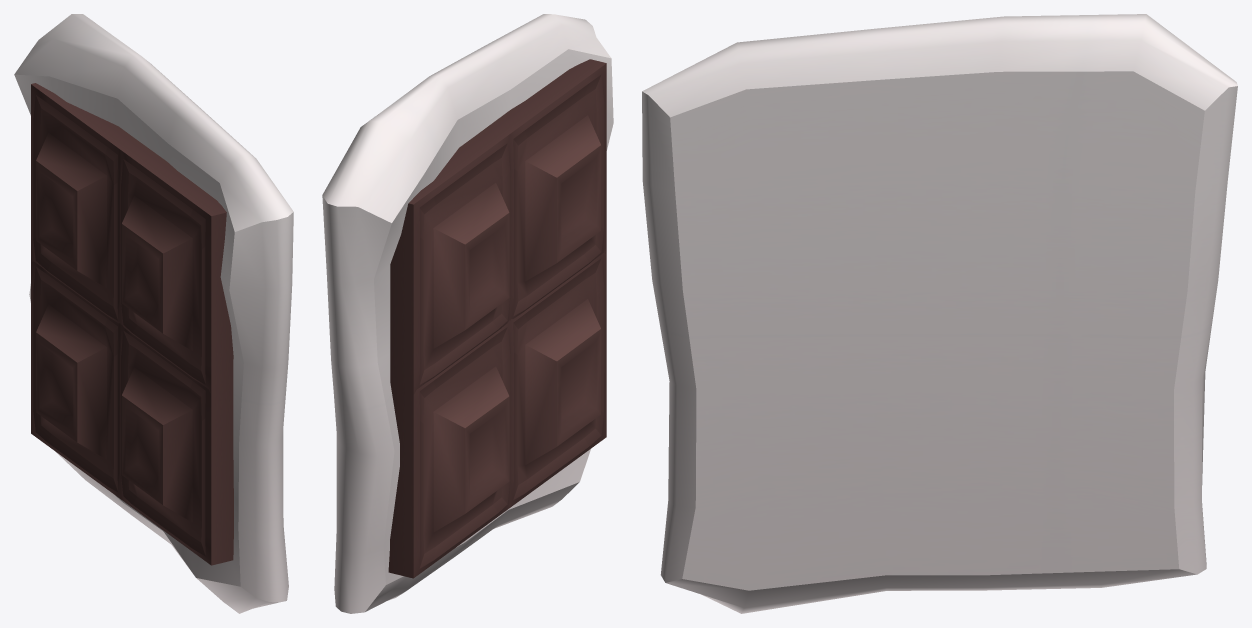
File: Window.fbx
3 views of the same model, side by side, from view 1: azimuth 30°, elevation 25°; view 2: azimuth 150°, elevation 25°; view 3: azimuth 270°, elevation 25° (orthographic). The views are drawn at different scales.
Visible parts, largest first — view 1: pCube24, choco10, choco9; view 2: pCube24, choco10, choco9; view 3: pCube24.
Boxes of the visible parts, x1,y1,x2,y2 form: pCube24: (14, 14, 293, 613); choco10: (31, 83, 233, 393); choco9: (31, 261, 233, 565); pCube24: (322, 14, 613, 613); choco10: (390, 59, 606, 394); choco9: (388, 249, 606, 578); pCube24: (642, 14, 1237, 613).
Size of the model in its own units: 0.2329 by 1.23 by 1.12.
